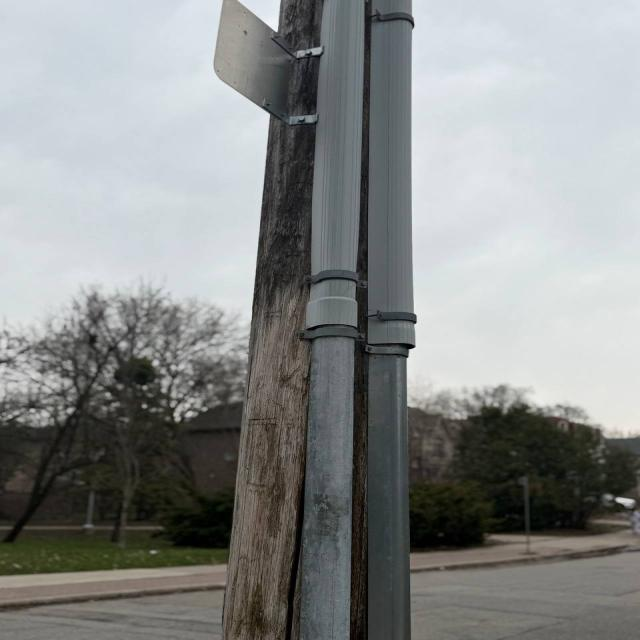Electrical Pole: (202, 0, 436, 640)
